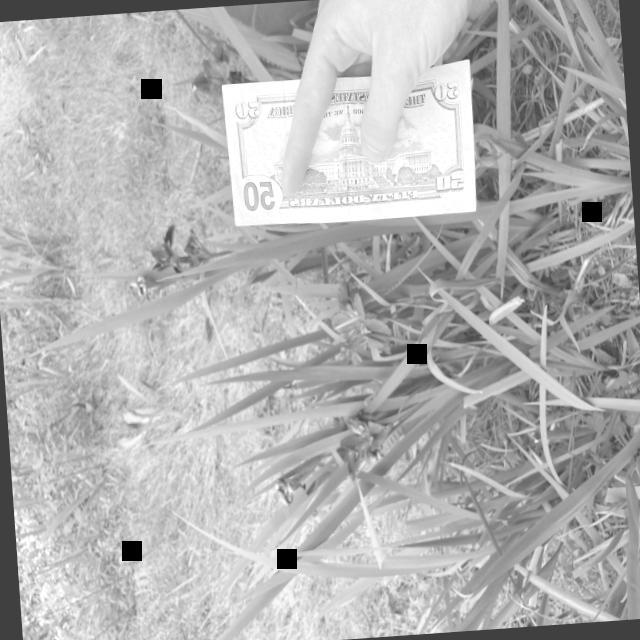fifty: (221, 59, 476, 227)
